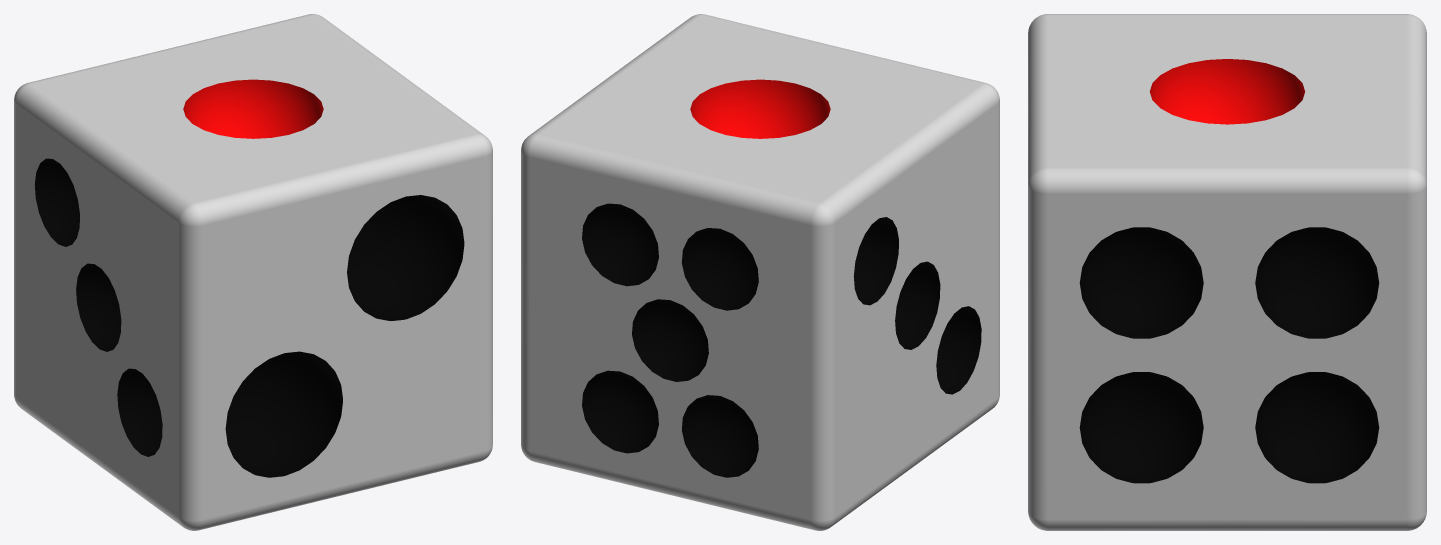
3 views of the same model, side by side, from view 1: azimuth 30°, elevation 25°; view 2: azimuth 150°, elevation 25°; view 3: azimuth 270°, elevation 25° (orthographic). The views are drawn at different scales.
Size of the model in its own units: 0.02 by 0.02 by 0.02.
